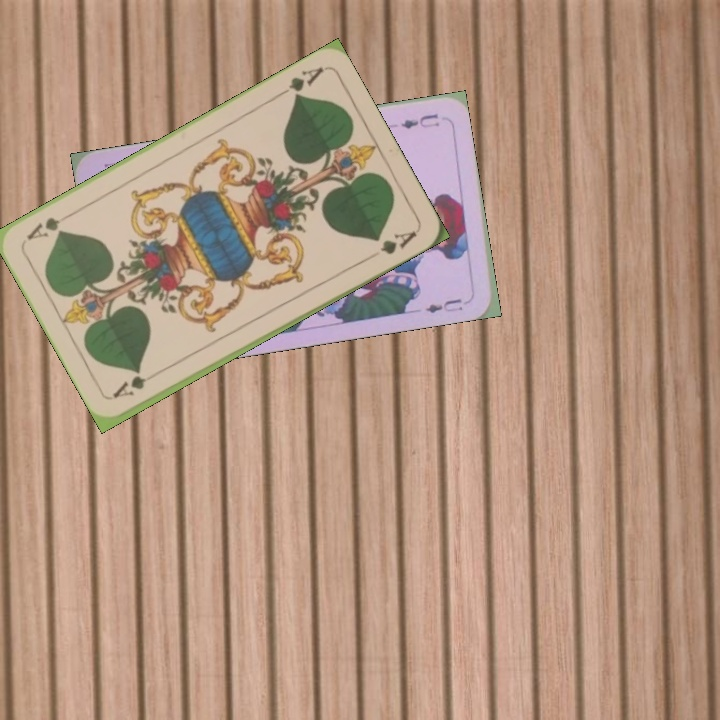EU: (397, 109, 442, 132)
GA: (272, 62, 326, 101), (108, 366, 163, 401)
